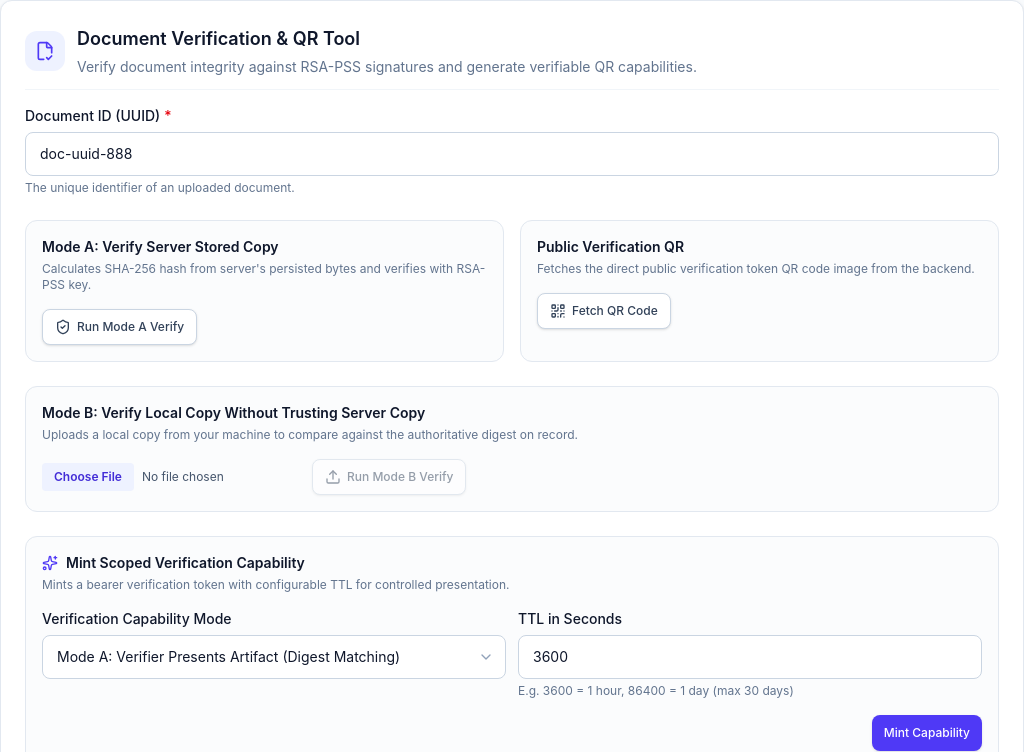
Test: Issuer Workflows & UI Components › DocumentVerifyQrCard › runs Mode A stored copy verification and displays result
The image size is (1024, 752).
Click the button "Run Mode A Verify" at (120, 327), box x1=42 y1=309 x2=197 y2=345
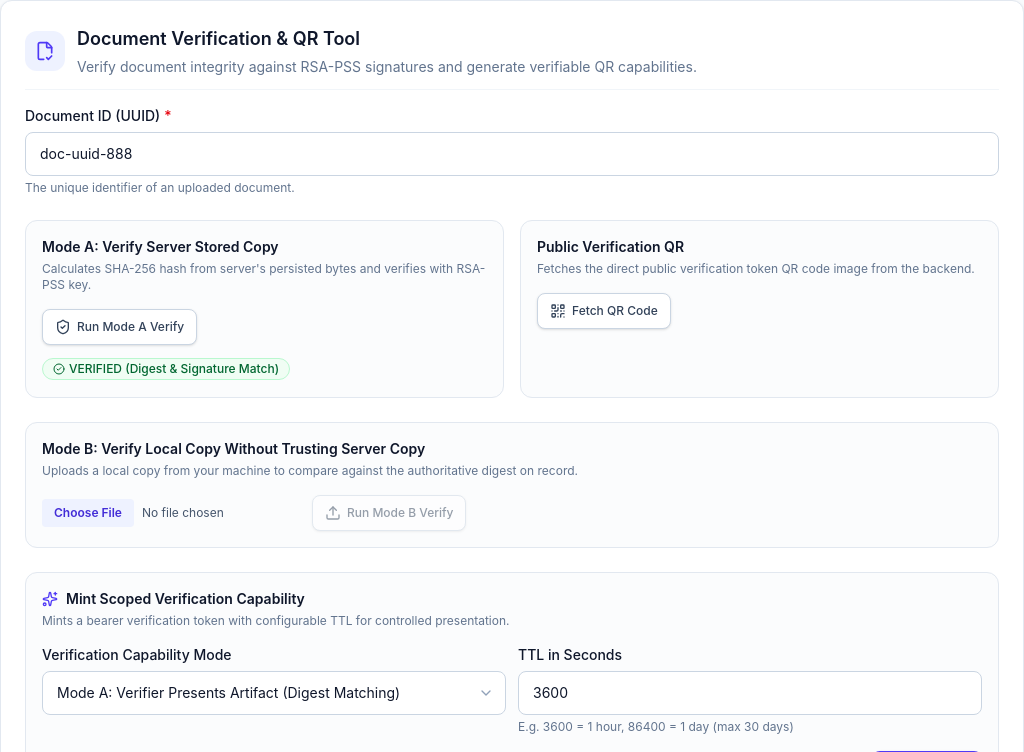
Check: the text "VERIFIED (Digest & Signature Match)" is shown, box x1=42 y1=358 x2=290 y2=380
